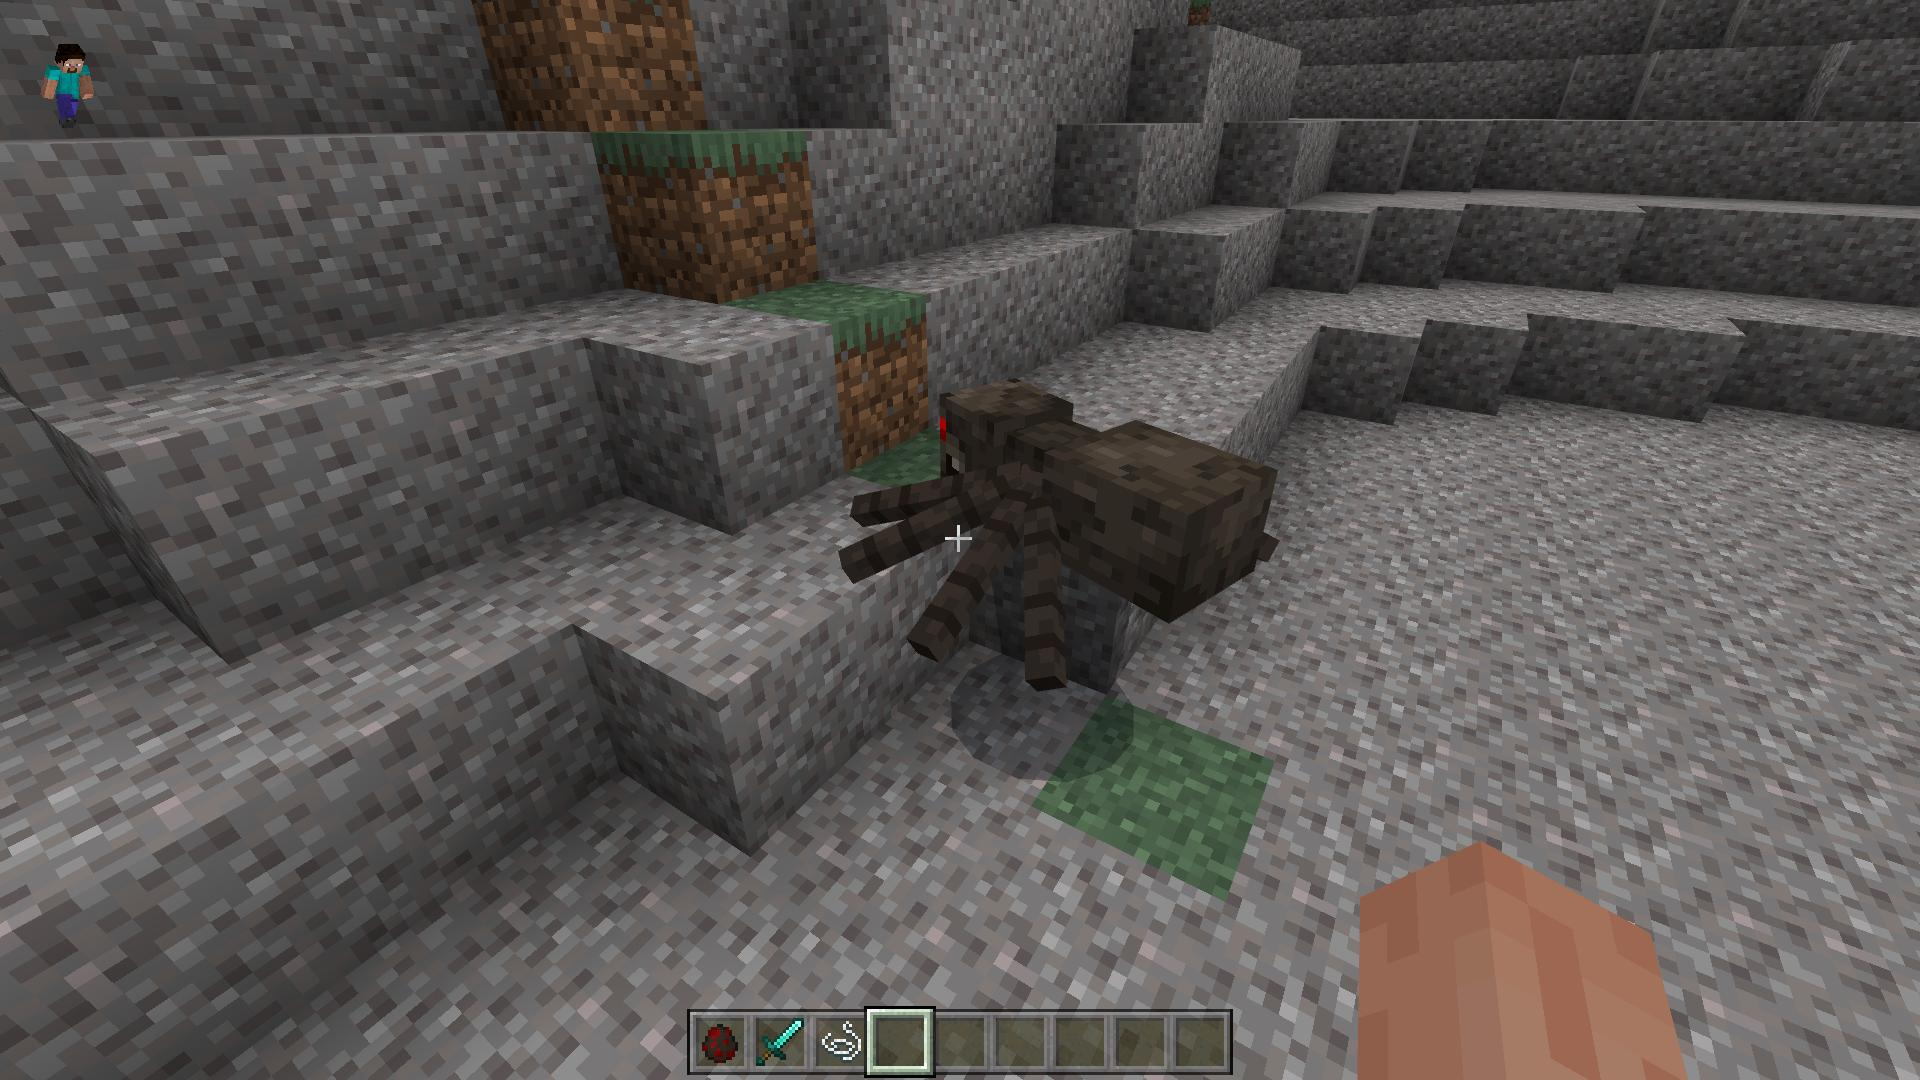spider: (841, 375, 1276, 683)
